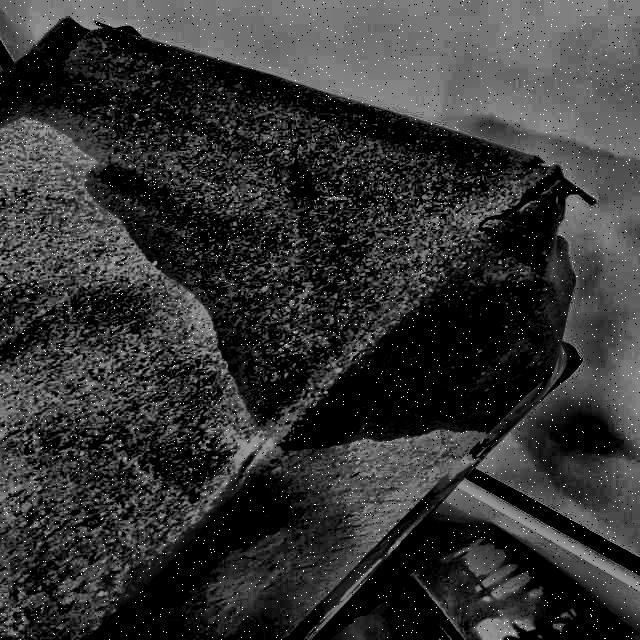box: (0, 12, 594, 639)
wet: (0, 19, 573, 447)
